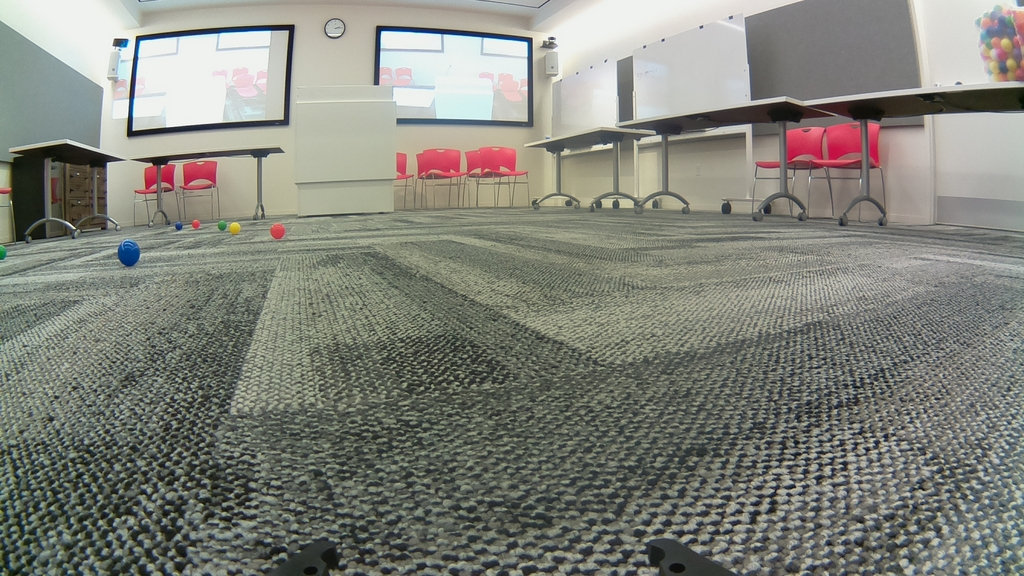ball: (118, 241, 140, 267)
